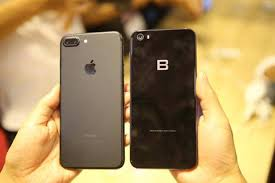bphone: (127, 27, 199, 172)
iphone: (54, 30, 123, 171)
